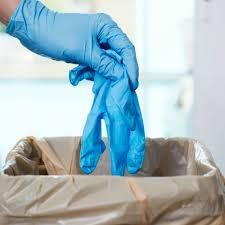Glove: (6, 0, 137, 89), (70, 66, 144, 174)
